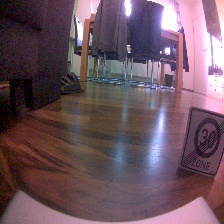dreisiger_zone_ende: (177, 103, 223, 180)
